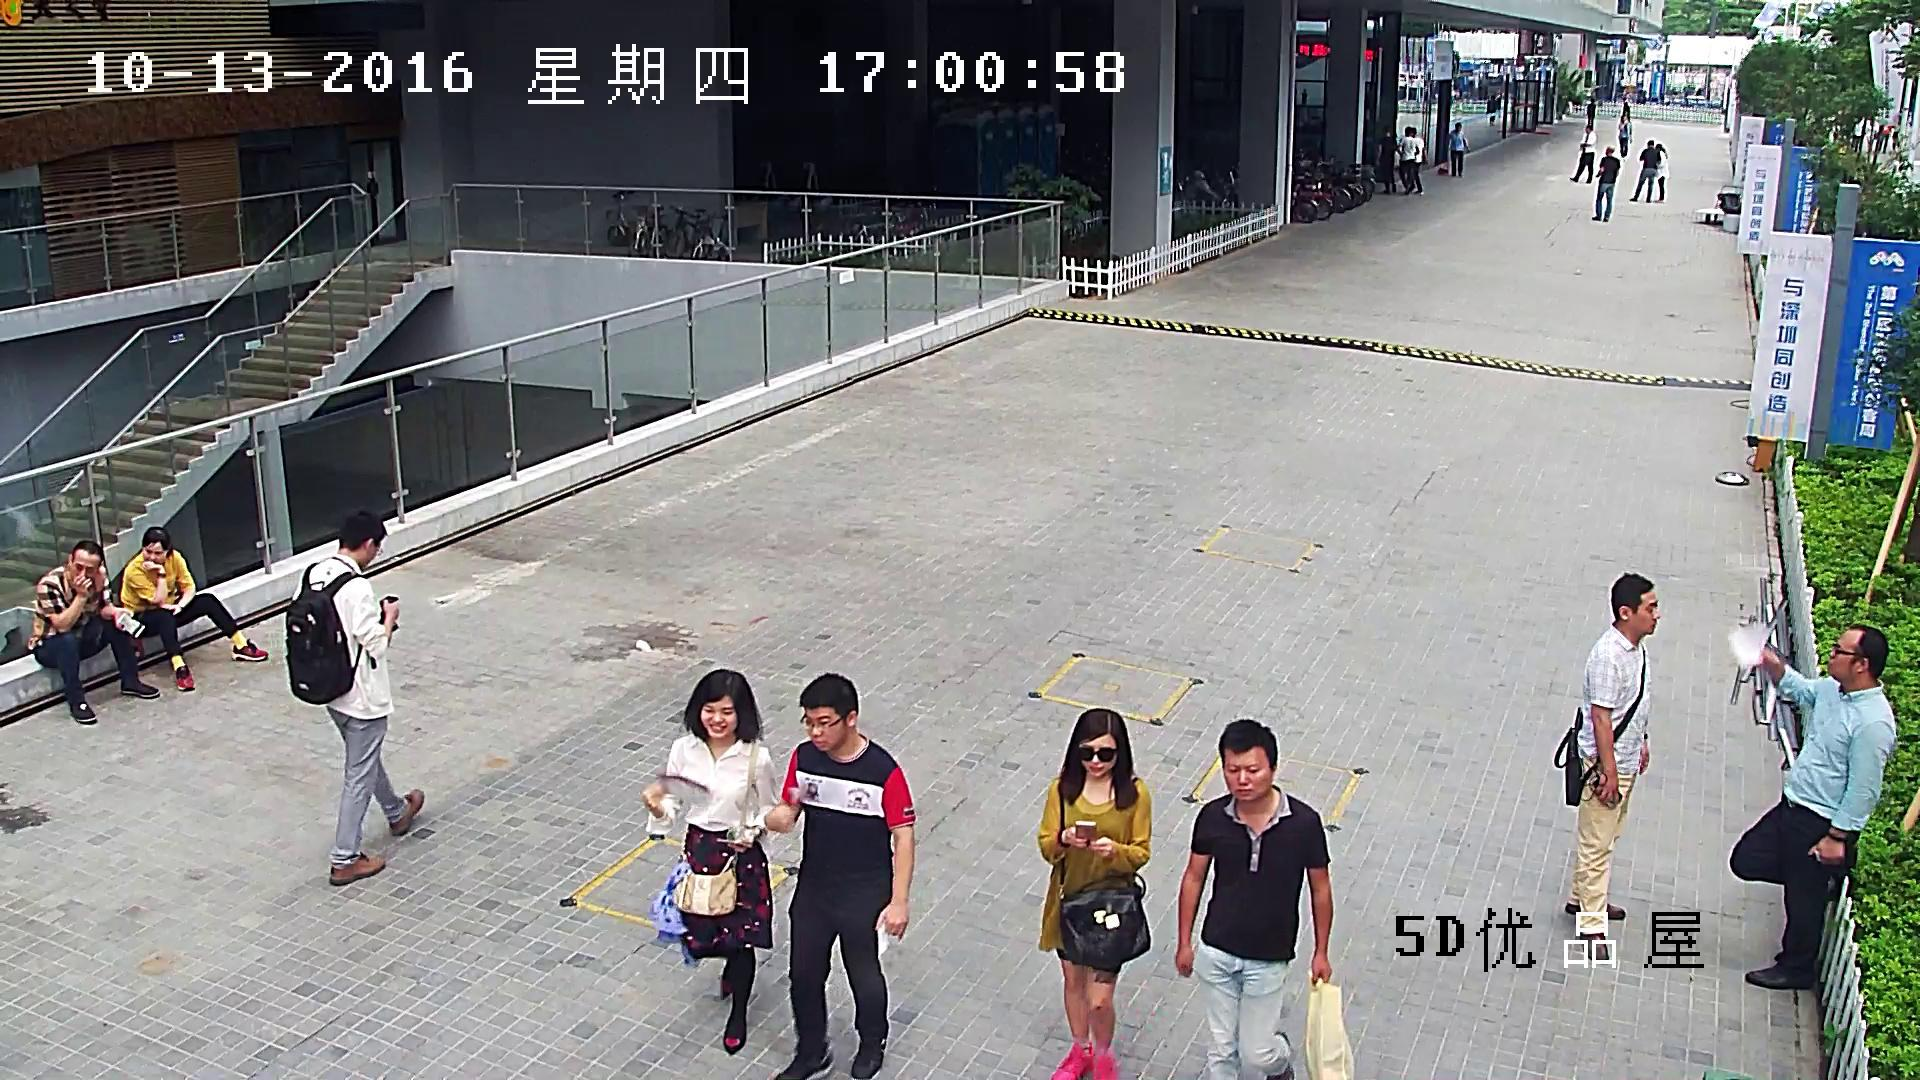person: (1176, 720, 1353, 1080), (764, 672, 915, 1080), (1729, 623, 1896, 990), (1176, 720, 1332, 1080), (641, 668, 776, 1054), (286, 511, 424, 885), (1037, 708, 1150, 1080), (1553, 572, 1660, 960), (119, 525, 268, 691), (29, 540, 161, 724), (1592, 145, 1620, 222), (1628, 140, 1659, 203), (1375, 126, 1401, 193), (1569, 123, 1596, 183), (1397, 125, 1419, 194), (1445, 121, 1470, 177), (1412, 127, 1425, 194), (1655, 144, 1670, 202), (1865, 115, 1880, 152), (1618, 115, 1631, 156), (1853, 116, 1864, 154), (1486, 95, 1497, 126), (1878, 125, 1889, 153), (1587, 99, 1595, 125), (1623, 101, 1630, 120)
